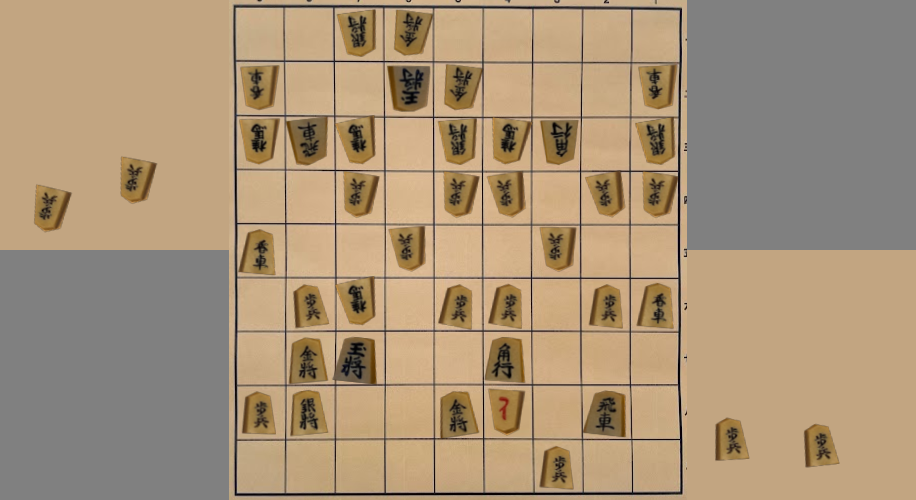A: (584, 391, 625, 437), (335, 338, 375, 383), (290, 338, 327, 384), (441, 392, 478, 438), (486, 338, 523, 382), (291, 391, 327, 436), (638, 284, 673, 328), (241, 230, 275, 274), (294, 285, 328, 328), (439, 286, 472, 328), (490, 285, 522, 328), (541, 447, 573, 489), (590, 286, 622, 328), (243, 393, 275, 434)
B: (287, 118, 327, 164), (389, 67, 429, 111), (337, 278, 374, 324), (241, 119, 278, 164), (338, 117, 374, 163), (637, 119, 673, 164), (445, 65, 481, 109), (395, 11, 431, 55), (440, 119, 475, 164), (639, 66, 675, 109), (339, 11, 374, 55), (494, 119, 529, 163), (242, 66, 277, 109), (587, 172, 622, 215), (542, 120, 576, 164), (489, 390, 523, 434), (390, 227, 424, 270), (489, 173, 523, 216), (444, 173, 477, 216), (541, 228, 574, 270), (345, 173, 377, 216), (645, 173, 676, 217)
C: (805, 425, 838, 467), (717, 419, 747, 460)
D: (35, 185, 70, 231), (121, 157, 156, 202)
